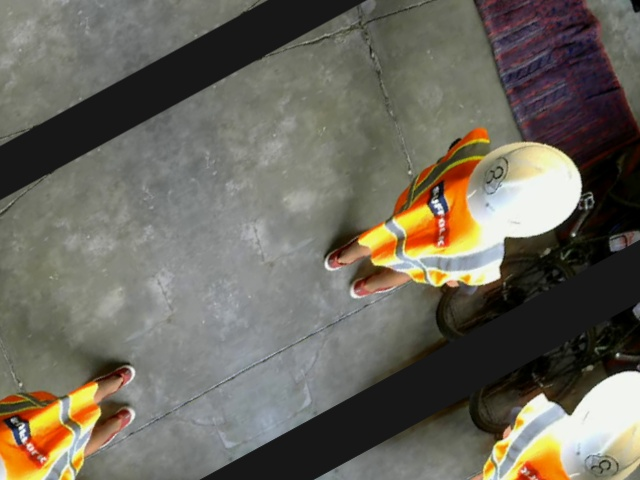eight: (475, 153, 515, 196)
